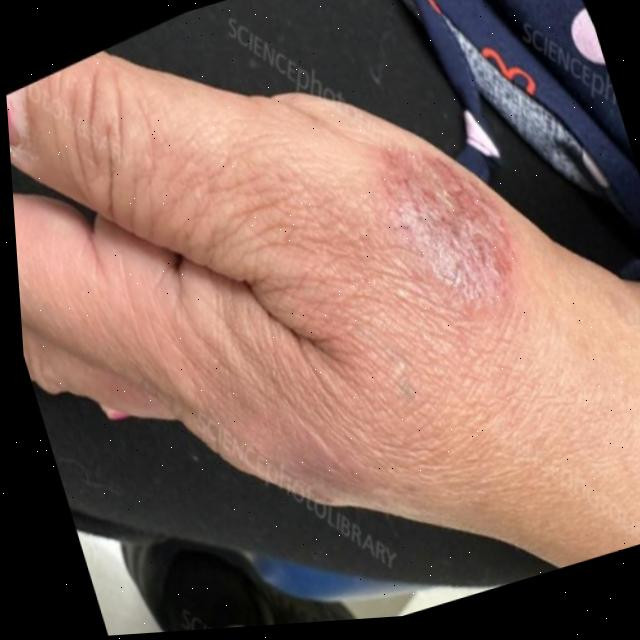Eczema: (124, 104, 573, 558)
